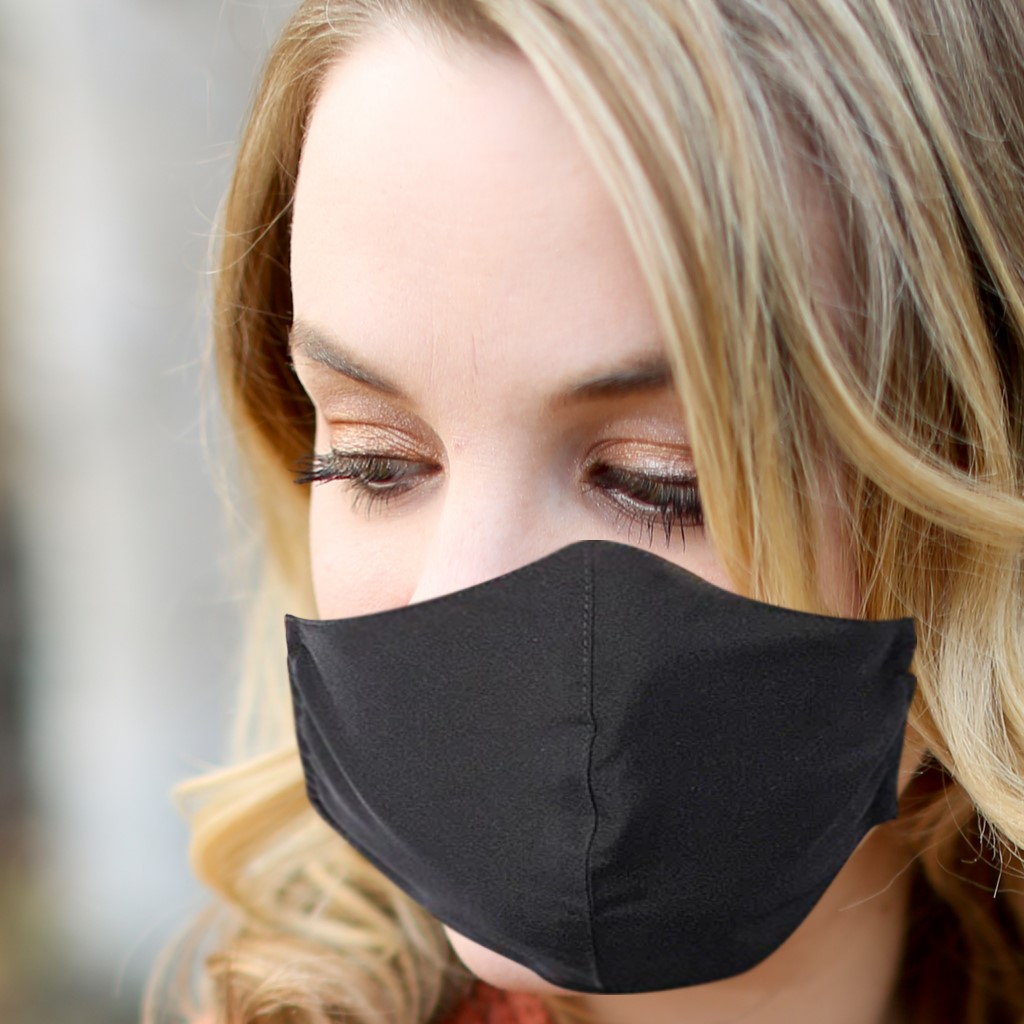con_mascara: (270, 14, 935, 990)
